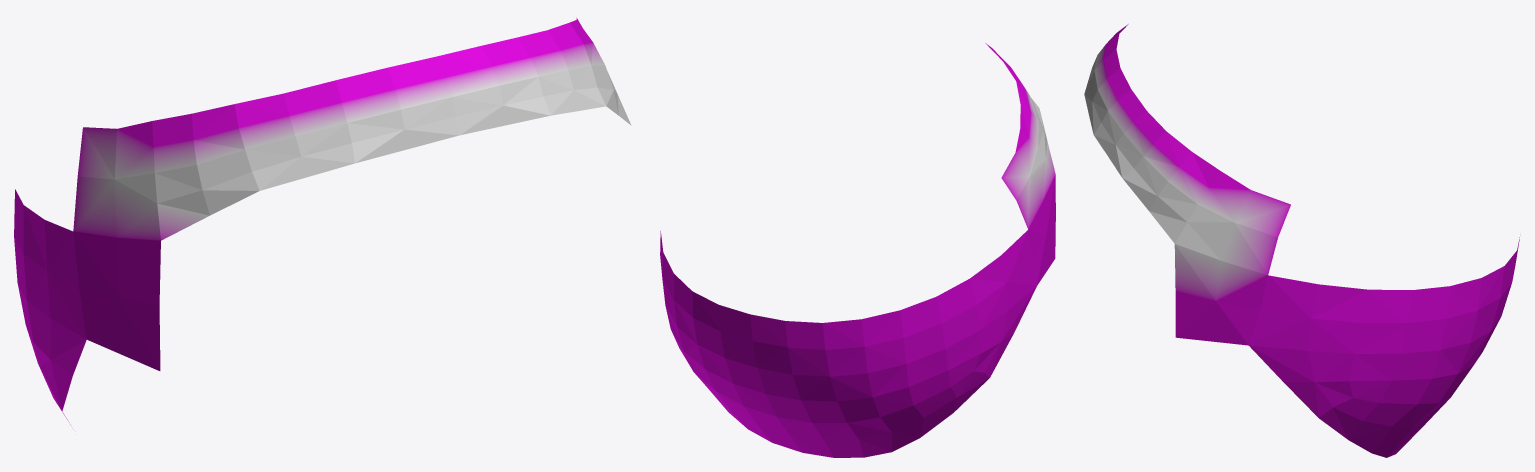
The model's file is hair_58.glb.
3 renders of one model, left to right at view 1: azimuth 30°, elevation 25°; view 2: azimuth 150°, elevation 25°; view 3: azimuth 270°, elevation 25°, orthographic. The views are drawn at different scales.
Parts seen in each view (by area): view 1: shape; view 2: shape; view 3: shape.
Boxes of the visible parts, left/top/right/bottom form: shape: left=14, top=18, right=631, bottom=424; shape: left=660, top=43, right=1055, bottom=457; shape: left=1084, top=24, right=1520, bottom=457.
Bounding box in the file's own units: 52.61 × 51.87 × 53.88.
